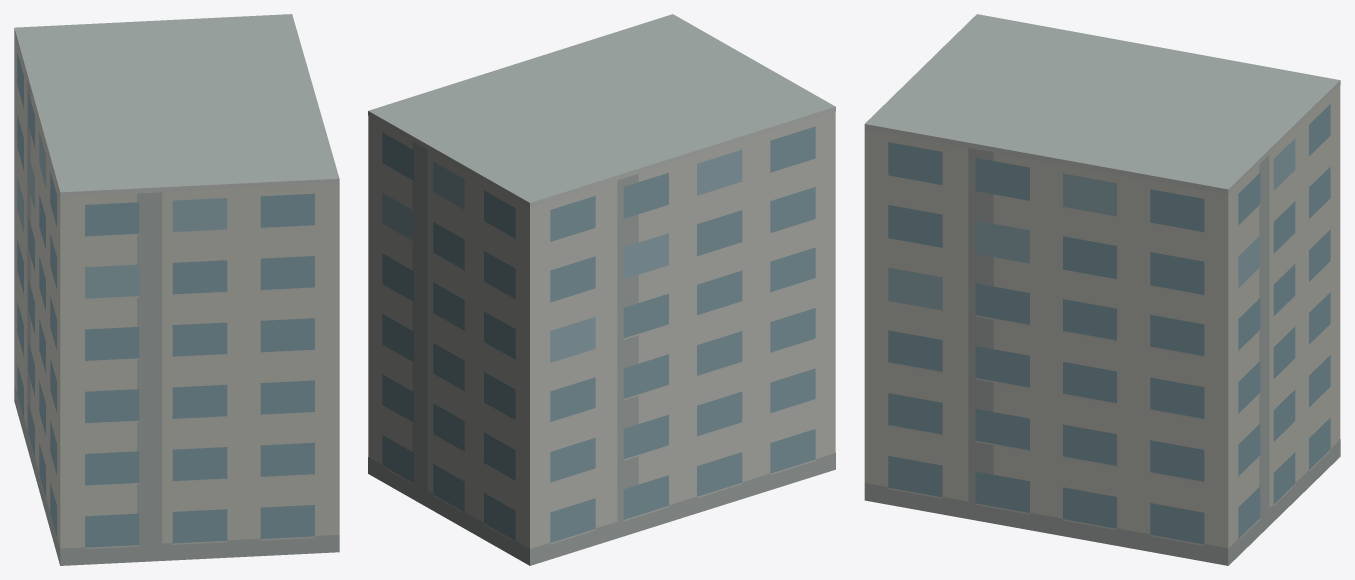
Rendered from survey-upis-32846764.glb.
The picture shows the model from 3 angles, left to right: view 1: azimuth 30°, elevation 25°; view 2: azimuth 150°, elevation 25°; view 3: azimuth 270°, elevation 25°; orthographic projection. The views are drawn at different scales.
Parts seen in each view (by area): view 1: survey-upis-32846764.tmp; view 2: survey-upis-32846764.tmp; view 3: survey-upis-32846764.tmp.
Boxes of the visible parts, x1=… form: survey-upis-32846764.tmp: x1=14, y1=14, x2=339, y2=565; survey-upis-32846764.tmp: x1=368, y1=14, x2=835, y2=565; survey-upis-32846764.tmp: x1=864, y1=14, x2=1340, y2=565.
Bounding box in the file's own units: 18.19 × 18.2 × 20.86.
